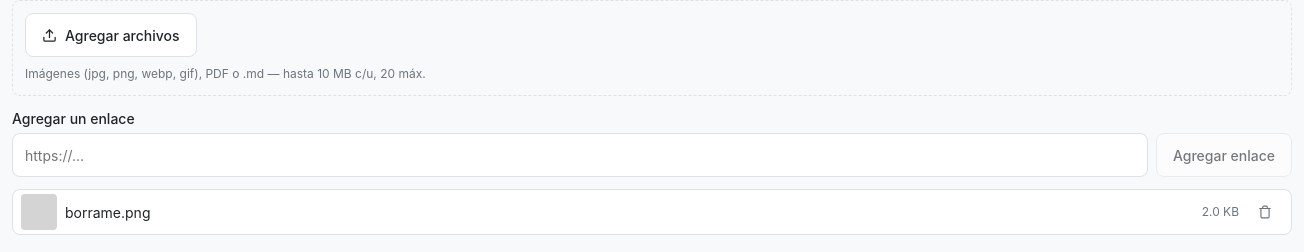
NewsAttachmentsManager — delete › confirms then deletes and removes the row
Click the button named "eliminar borrame.png". click: (1265, 212)
box: [1247, 194, 1283, 230]
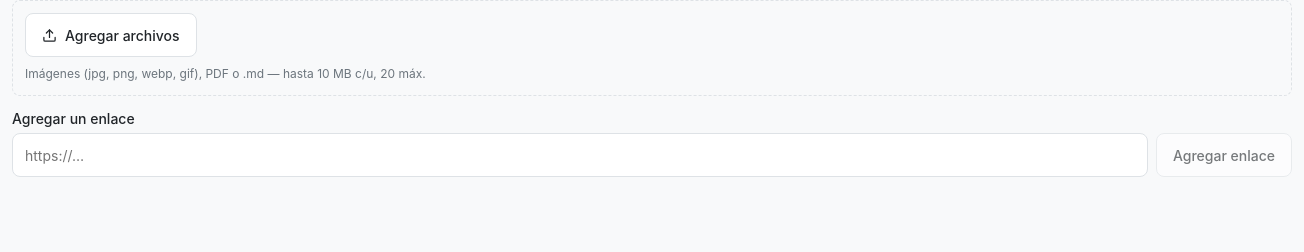
Expected: the text "borrame.png" is gone
